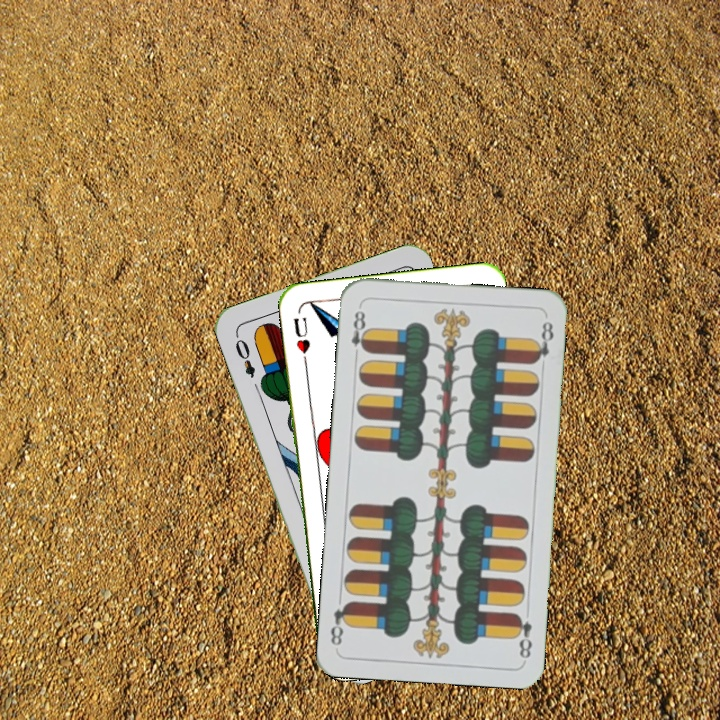E8: (347, 306, 371, 361), (510, 610, 534, 662)
EO: (231, 330, 258, 381)
HU: (289, 313, 313, 367)
